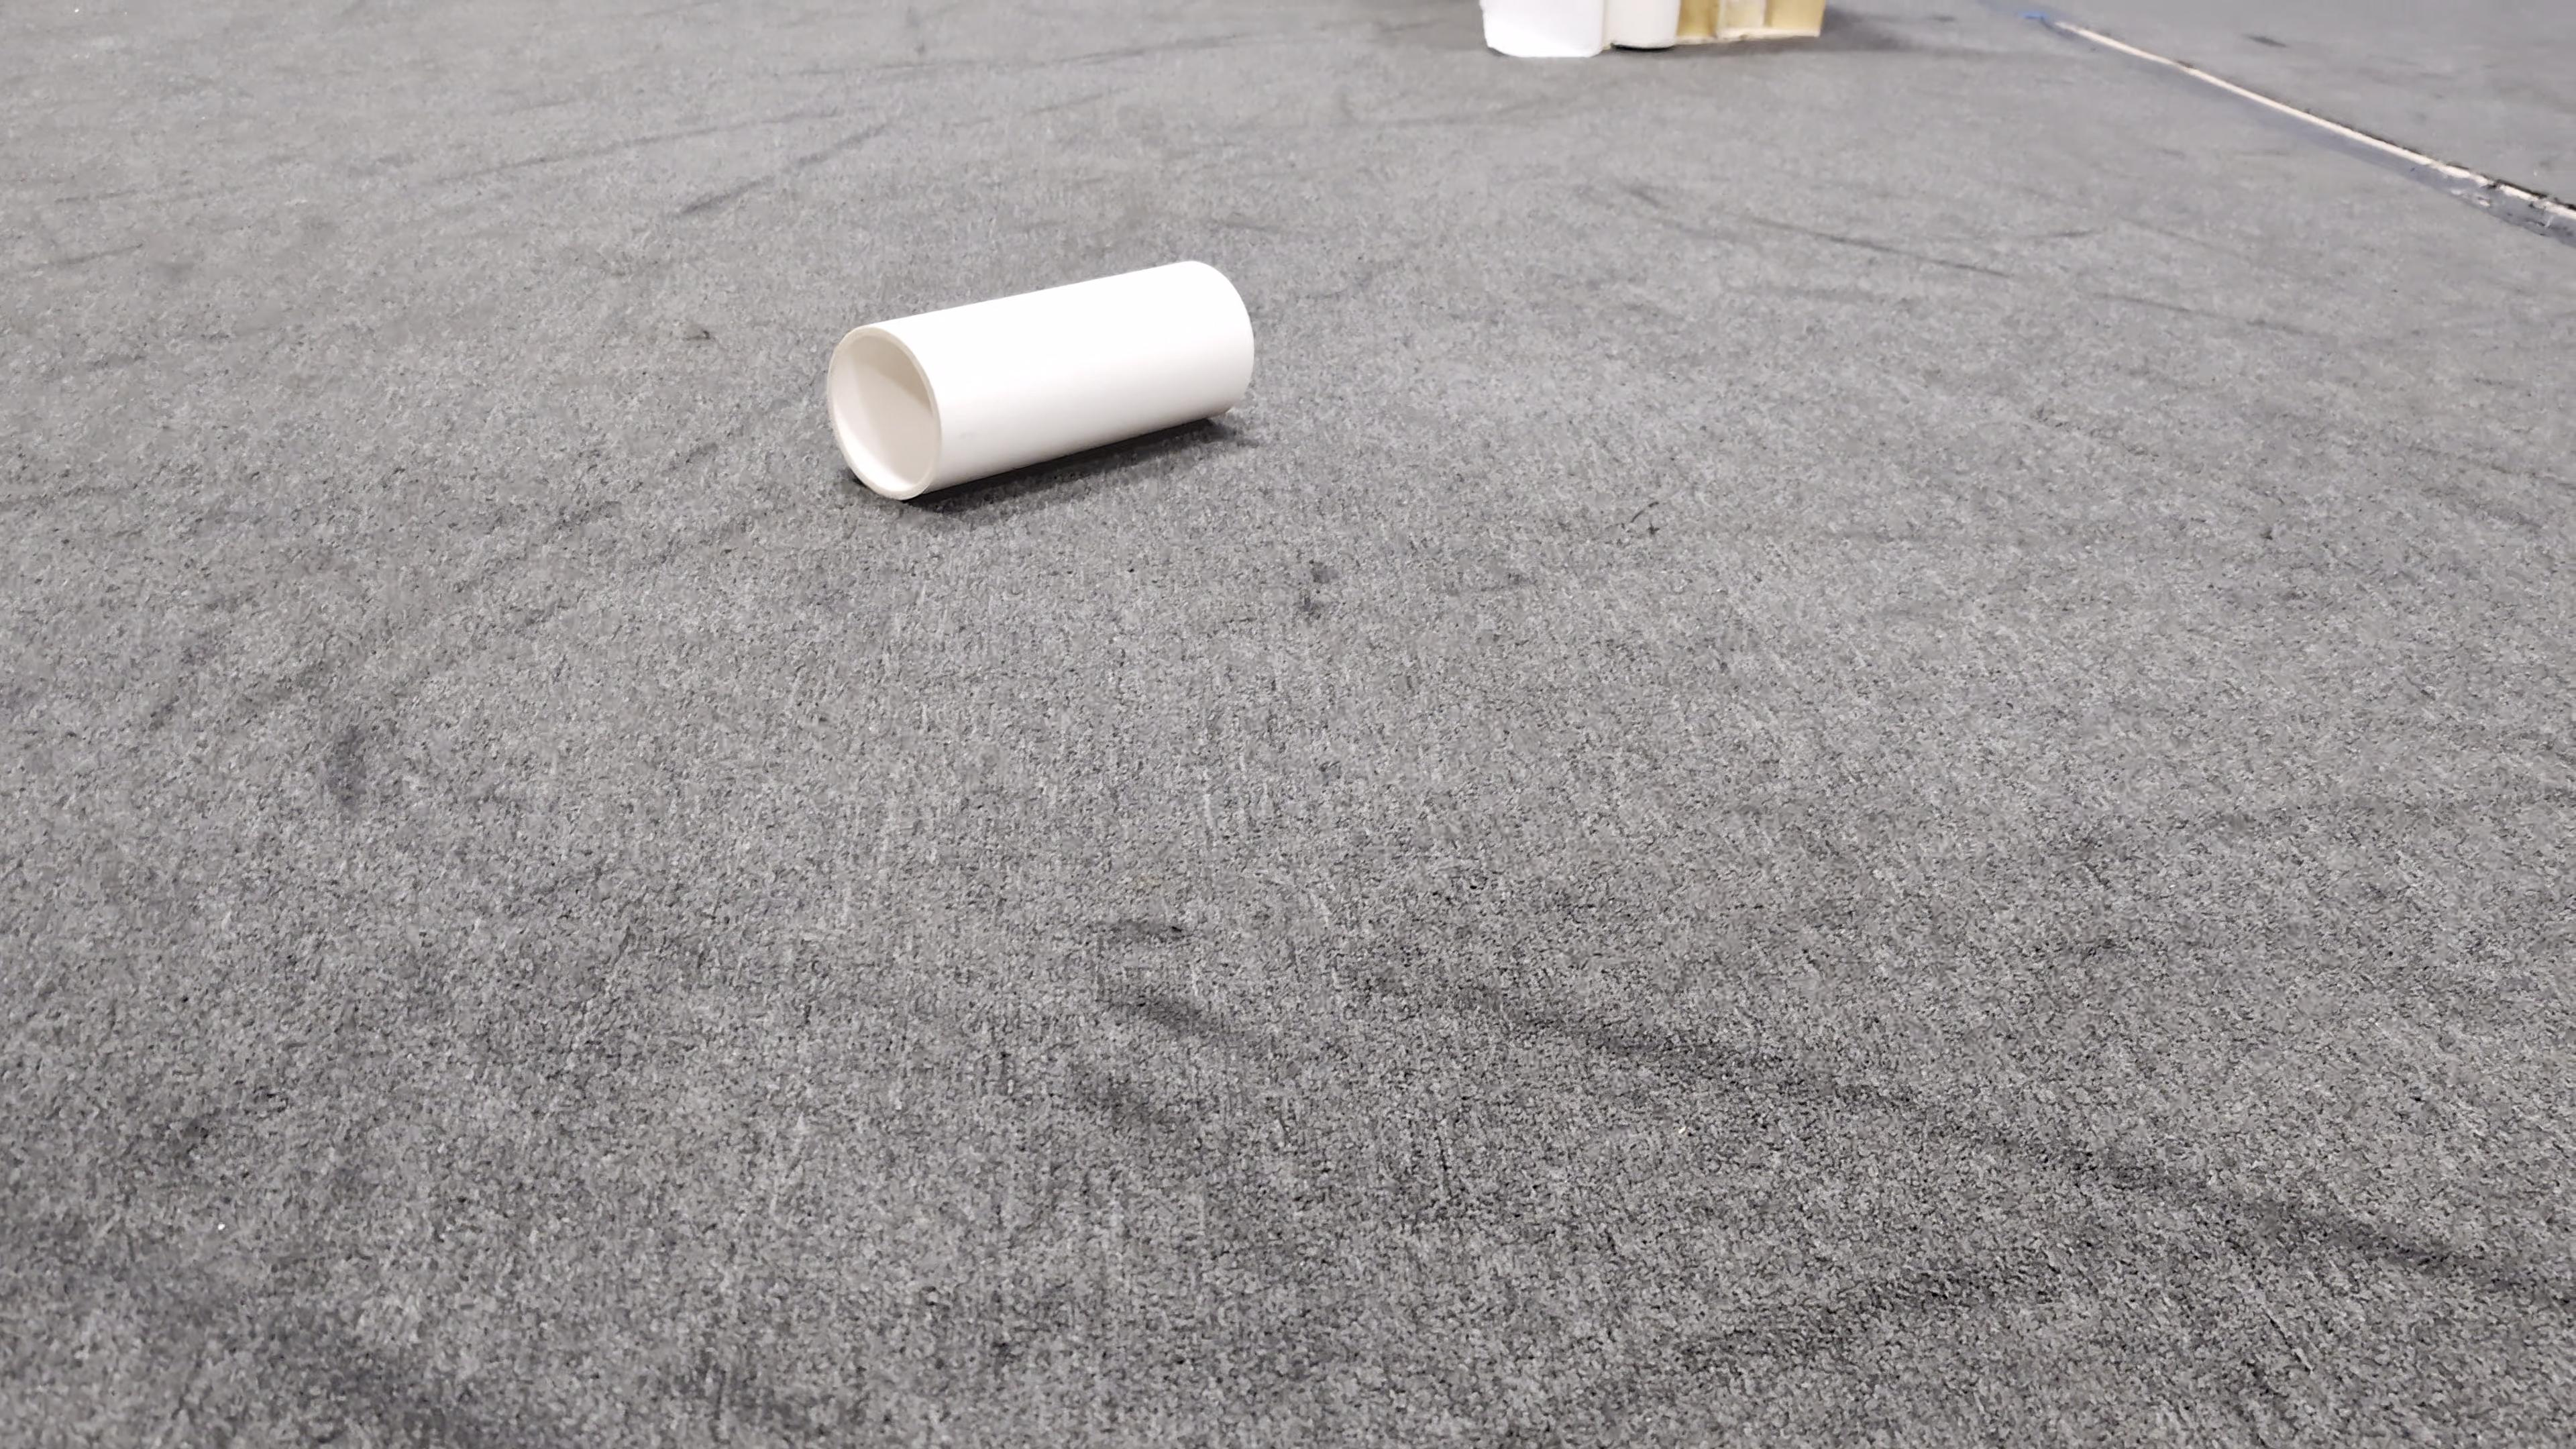coral: (826, 257, 1254, 501)
